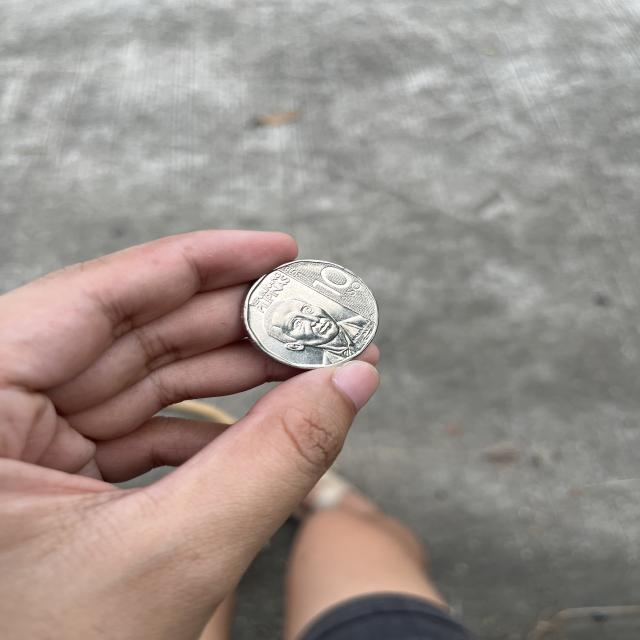10_New_Front: (300, 255, 364, 313)
